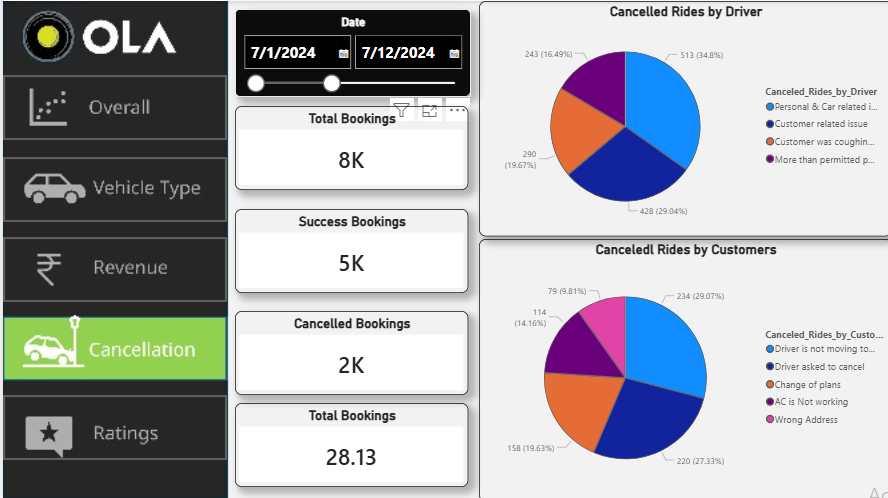

What the dashboard file says about the page in this screenshot:
{"tool":"powerbi","page":{"name":"Cancellation","canvas":[1280,720],"ordinal":3},"visuals":[{"type":"actionButton","box":[0,339.8,322.6,93.6],"z":0},{"type":"actionButton","box":[0,567.4,322.6,93.6],"z":1000},{"type":"actionButton","box":[0,224.6,322.6,93.6],"z":2000},{"type":"actionButton","box":[0,106.6,322.6,93.6],"z":3000},{"type":"pieChart","title":"Cancelled Rides by Driver","fields":{"Category":["July.Canceled_Rides_by_Driver"],"Y":["CountNonNull(July.Canceled_Rides_by_Driver)"]},"box":[685.4,0,594.6,339.3],"z":4000},{"type":"pieChart","title":"Canceledl Rides by Customers","fields":{"Category":["July.Canceled_Rides_by_Customer"],"Y":["CountNonNull(July.Canceled_Rides_by_Customer)"]},"box":[685.4,342.7,594.6,378],"z":5000},{"type":"slicer","title":"Date","fields":{"Values":["July.Date"]},"box":[334.3,11.8,339.3,126],"z":6000},{"type":"cardVisual","title":"Total Bookings","fields":{"Data":["CountNonNull(July.Booking_ID)"]},"box":[334.3,151.2,336,120.9],"z":7000},{"type":"cardVisual","title":"Success Bookings","fields":{"Data":["CountNonNull(July.Booking_ID)"]},"box":[334.3,299,336,120.9],"z":8000},{"type":"cardVisual","title":"Cancelled Bookings","fields":{"Data":["CountNonNull(July.Booking_ID)"]},"box":[334.3,446.8,336,120.9],"z":9000},{"type":"cardVisual","title":"Total Bookings","fields":{"Data":["July.cancelprecentage"]},"box":[334.3,579.5,336,120.9],"z":10000}]}

Visuals, with their boxes on the page's 1280x720 design canvas (x1, y1, x2, y2). These are canvas units, not pixel positions in the 888x498 screenshot, which may show the page scaled, cropped or inside an application window:
actionButton: (x1=0, y1=340, x2=323, y2=433)
actionButton: (x1=0, y1=567, x2=323, y2=661)
actionButton: (x1=0, y1=225, x2=323, y2=318)
actionButton: (x1=0, y1=107, x2=323, y2=200)
"Cancelled Rides by Driver" pieChart: (x1=685, y1=0, x2=1280, y2=339)
"Canceledl Rides by Customers" pieChart: (x1=685, y1=343, x2=1280, y2=721)
"Date" slicer: (x1=334, y1=12, x2=674, y2=138)
"Total Bookings" cardVisual: (x1=334, y1=151, x2=670, y2=272)
"Success Bookings" cardVisual: (x1=334, y1=299, x2=670, y2=420)
"Cancelled Bookings" cardVisual: (x1=334, y1=447, x2=670, y2=568)
"Total Bookings" cardVisual: (x1=334, y1=580, x2=670, y2=700)
